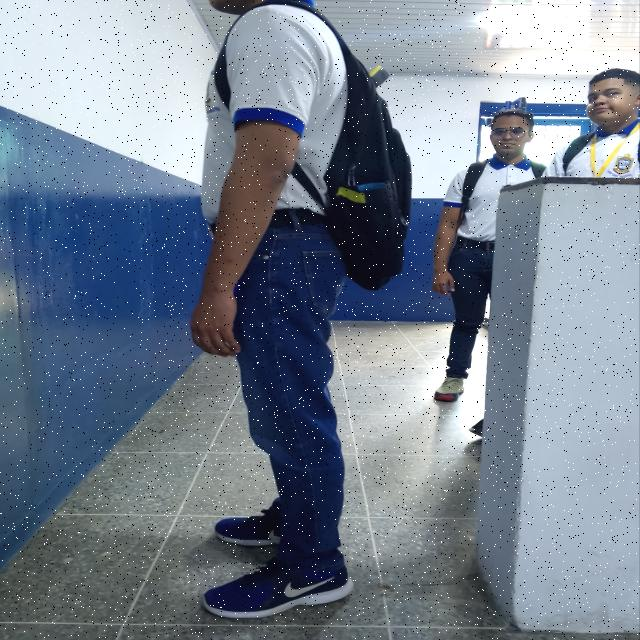pantalon_oscuro: (234, 224, 348, 573), (445, 242, 517, 379)
uniforme_superior: (200, 0, 348, 225), (442, 153, 558, 242), (562, 118, 640, 180)
